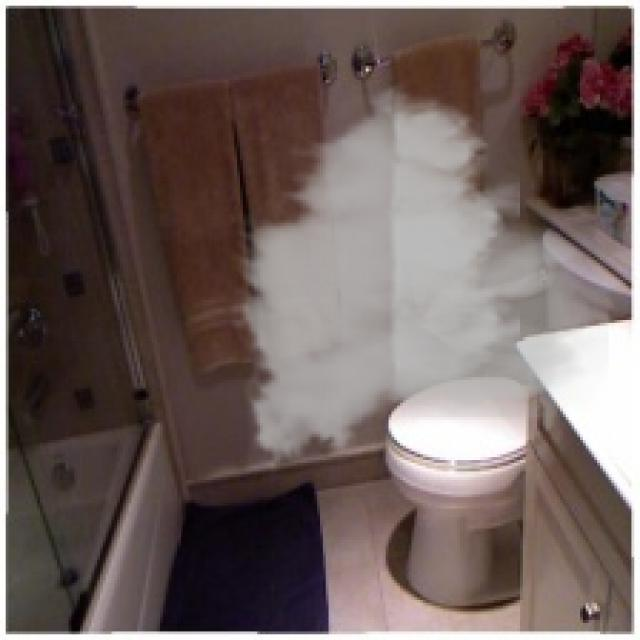smoke: (226, 74, 608, 480)
